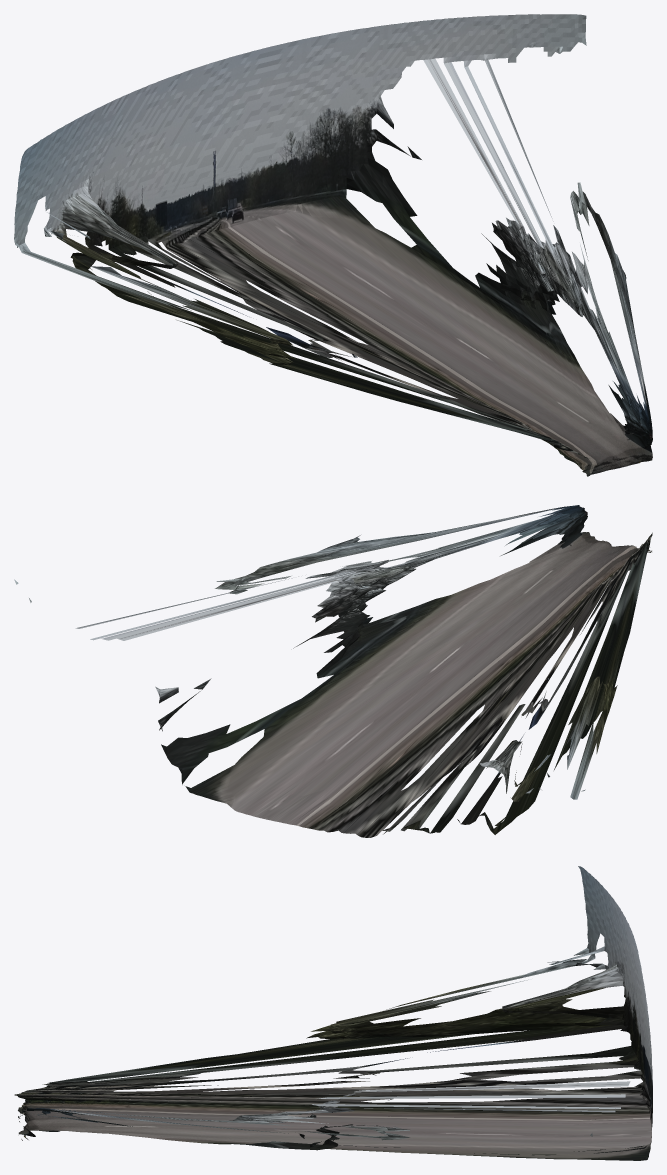
3 views of the same model, one above another, from view 1: azimuth 30°, elevation 25°; view 2: azimuth 150°, elevation 25°; view 3: azimuth 270°, elevation 25° (orthographic). The views are drawn at different scales.
Parts seen in each view (by area): view 1: defaultobject; view 2: defaultobject; view 3: defaultobject.
Part boxes in pixels (x1=…): defaultobject: x1=14, y1=14, x2=652, y2=476; defaultobject: x1=14, y1=505, x2=652, y2=837; defaultobject: x1=14, y1=866, x2=652, y2=1160.
Bounding box in the file's own units: 40.92 × 12.22 × 44.76.
Materials: 1 (1 with a texture image).
